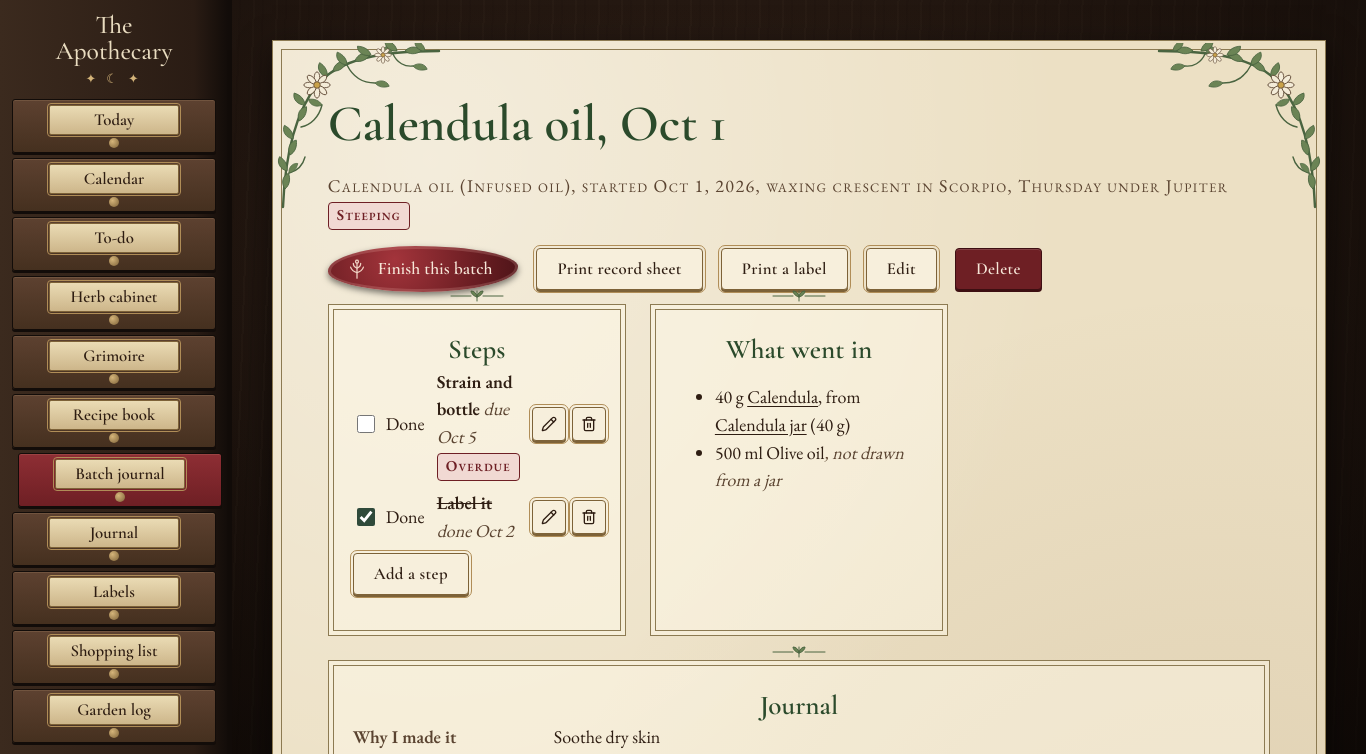
edits a step
Click the button named "Edit Strain and bottle". click: (549, 424)
box: [532,407,566,441]
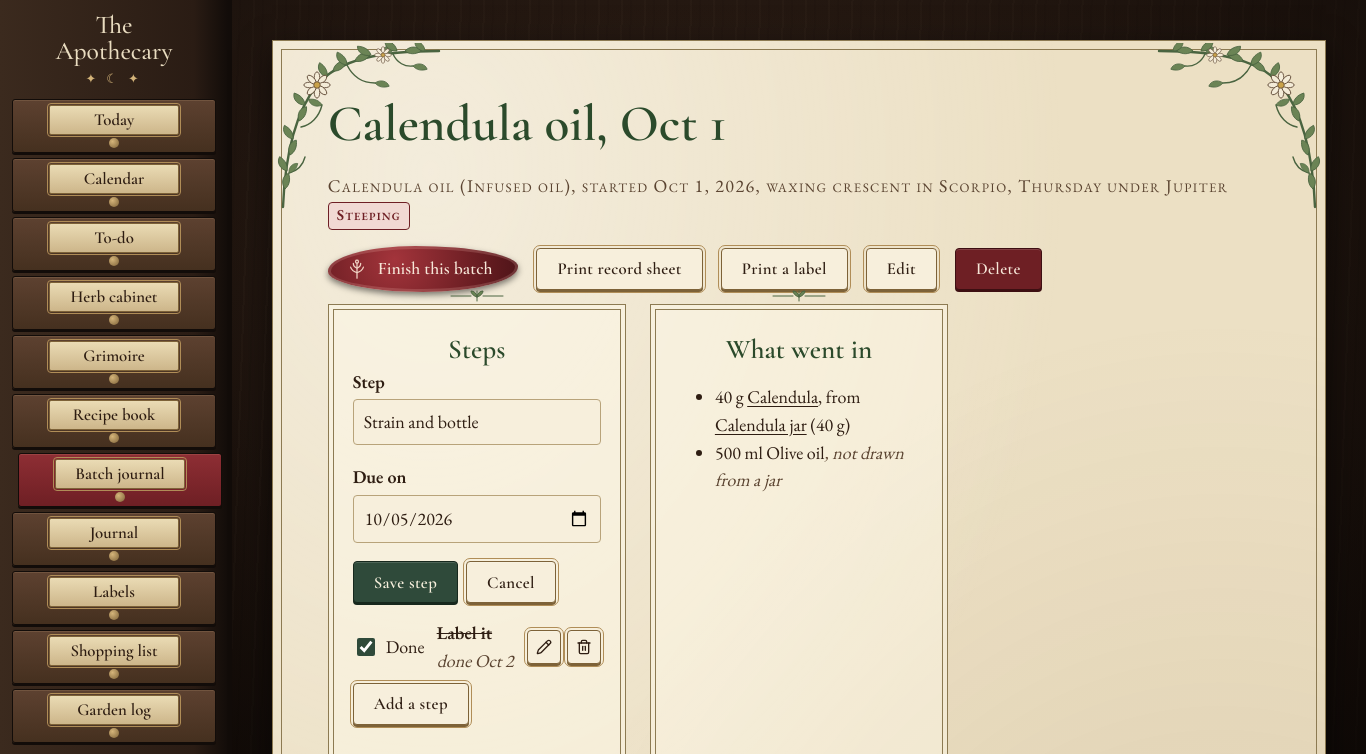
Replace the text in the field labelled "Step" with "Strain it twice". click: (477, 422)
box: [353,399,601,445]
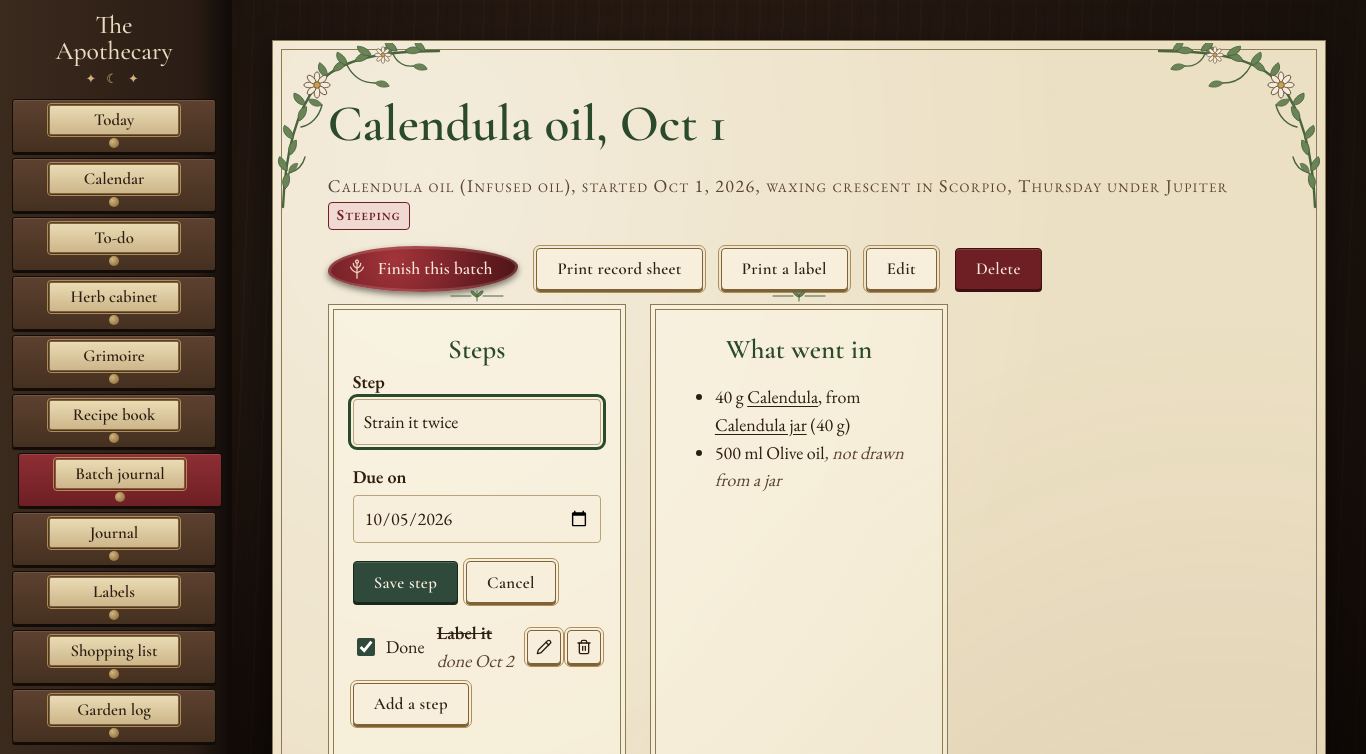
Click the button "Save step". click: (405, 582)
box: [353,561,458,603]
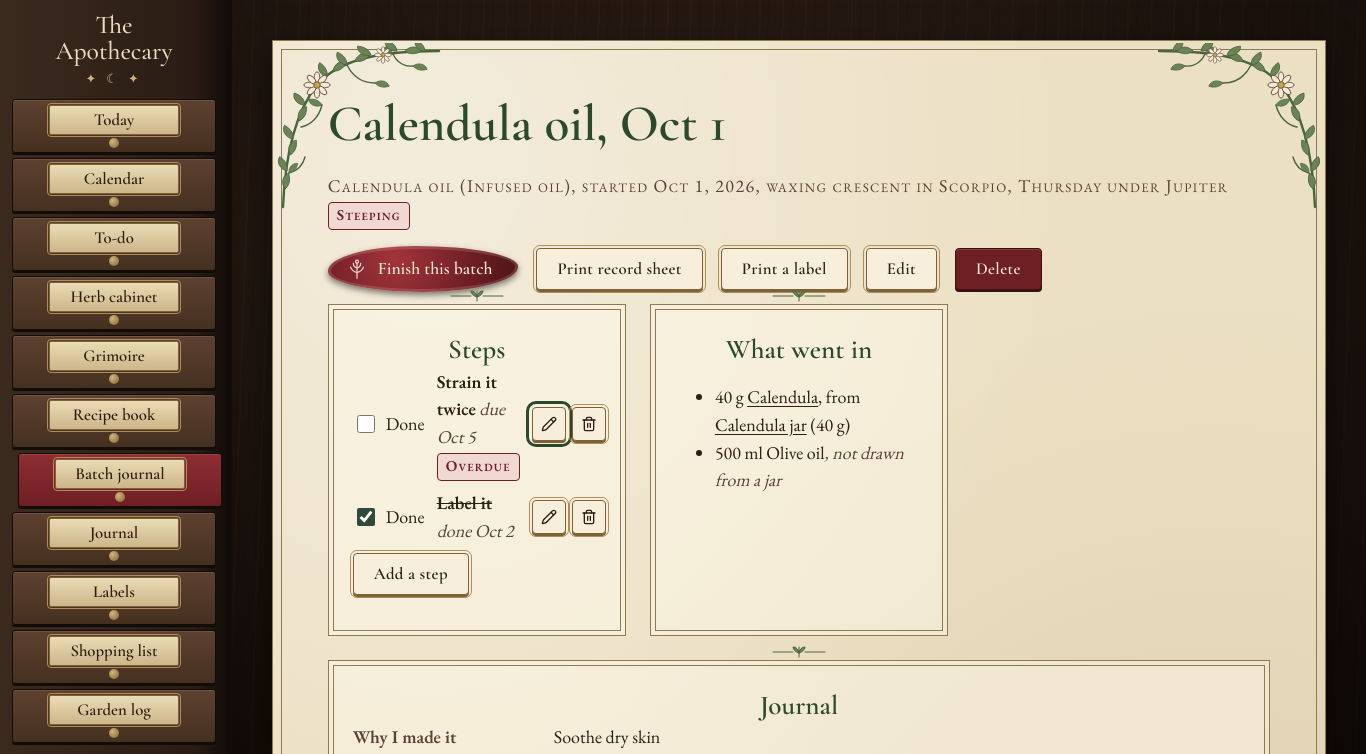
expect the text "Strain it twice" is shown: met, box [437,370,497,420]
